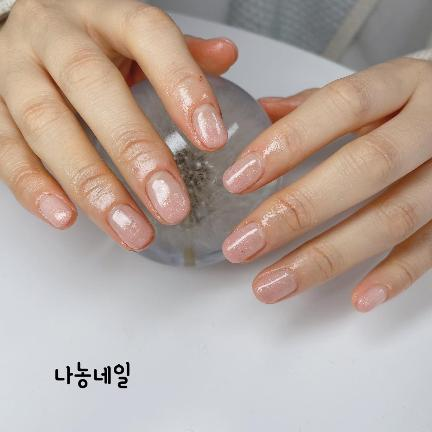Nail: (146, 170, 191, 224), (108, 203, 154, 250), (223, 222, 266, 263), (223, 153, 265, 193), (192, 104, 228, 149), (252, 269, 297, 303), (39, 195, 73, 228), (357, 286, 387, 311)
